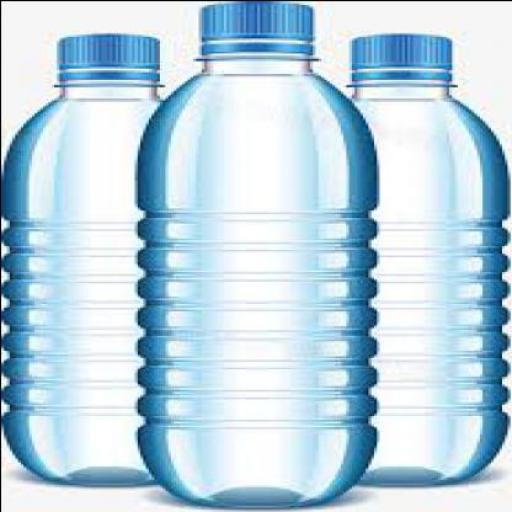plastic: (138, 1, 381, 507), (342, 31, 511, 479), (5, 30, 170, 484), (203, 1, 320, 52), (350, 32, 454, 82), (58, 32, 164, 80)
